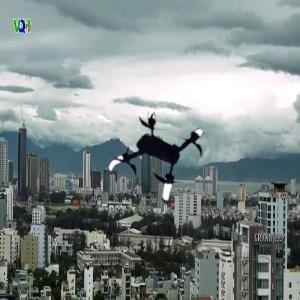drone: (106, 108, 211, 213)
